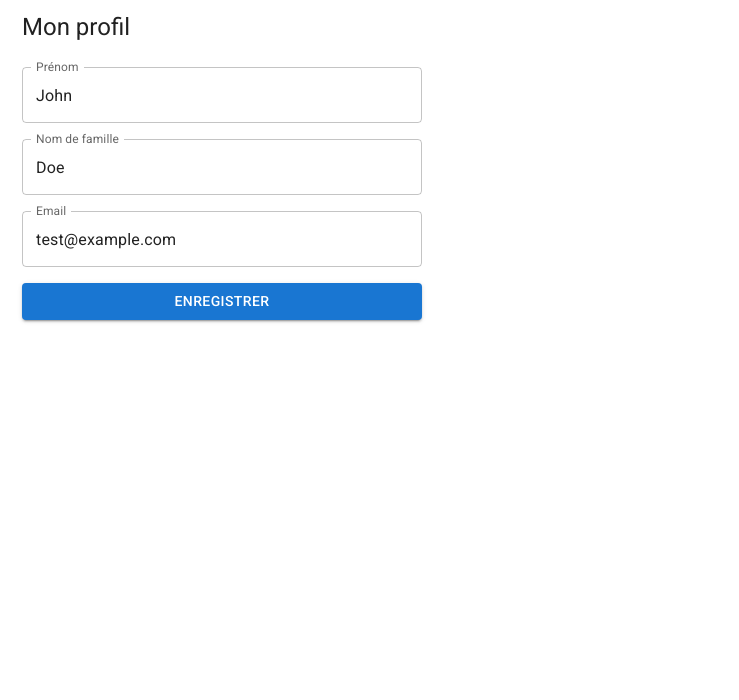
it: UserProfile › ne devrait pas envoyer de requête si aucune modification n'a été faite
The width and height of the screenshot is (739, 700).
Expected: the field labelled "Prénom" is shown, [22, 67, 422, 123]
Click the button "Enregistrer": (222,301) [22, 283, 422, 320]
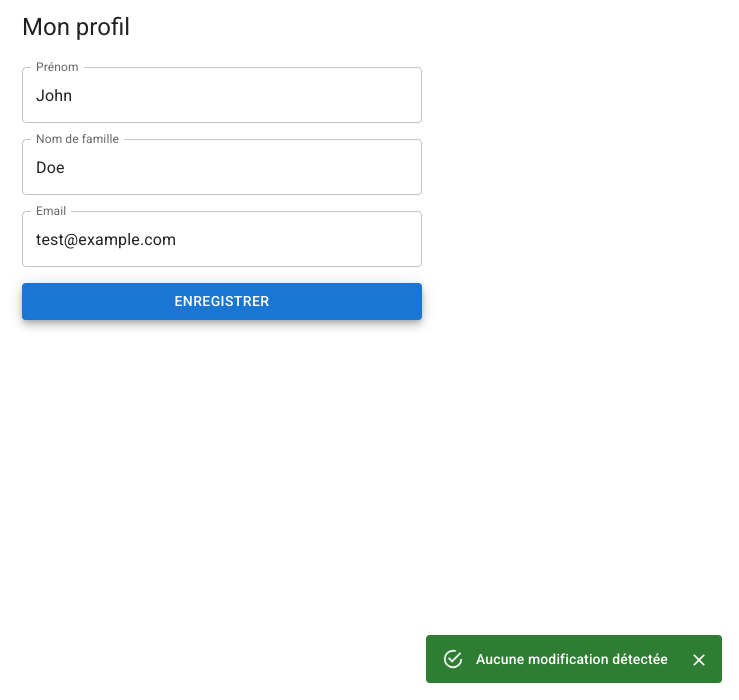
Result: the text "Aucune modification détectée" is shown at [476, 651, 668, 667]
